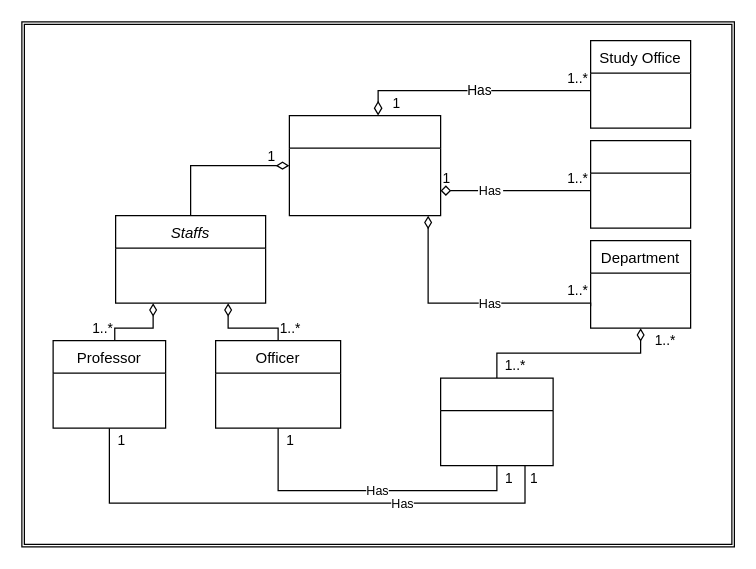
Some shapes in this 756 by 569 pixel diagram are drawn without their labels. The shapes that lost their labels are listed below. From the top down, each one's centre as x and y in pixels, then its label:
point (364, 165): University
point (640, 183): Classrooms
point (496, 421): Office
